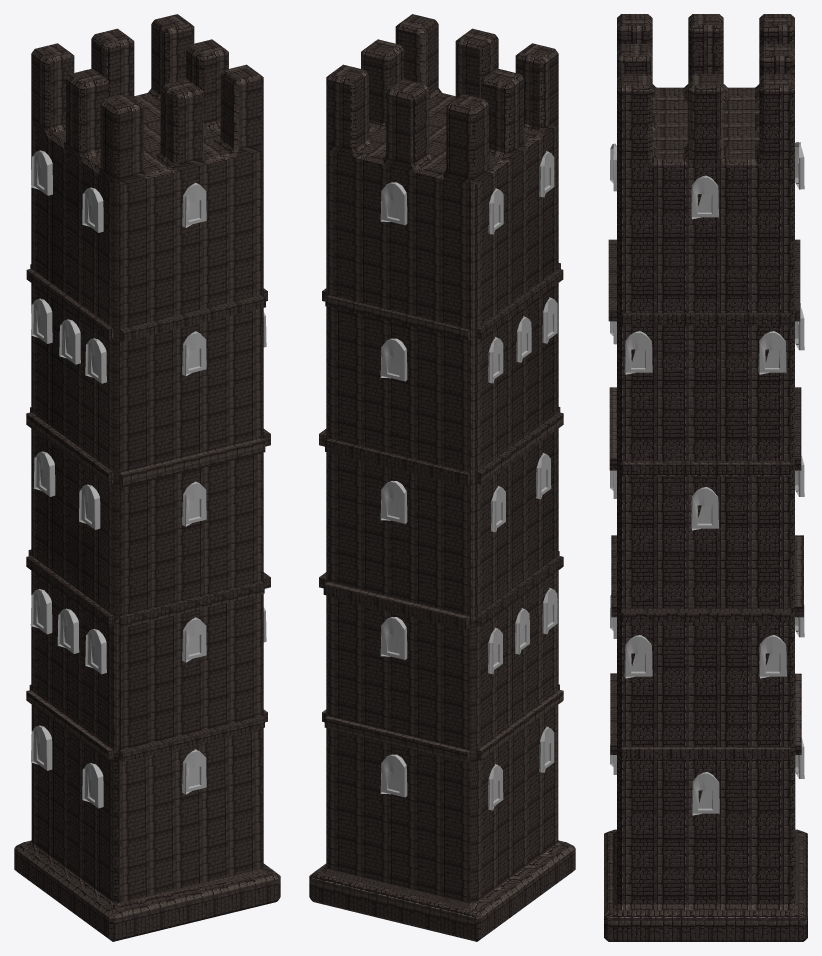
The model's file is UV Ready Tower.FBX.
3 renders of one model, left to right at view 1: azimuth 30°, elevation 25°; view 2: azimuth 150°, elevation 25°; view 3: azimuth 270°, elevation 25°, orthographic. The views are drawn at different scales.
Parts seen in each view (by area): view 1: Box001; view 2: Box001; view 3: Box001.
Part boxes in pixels (box(x1,y1,x2,y2)): Box001: box(14, 14, 280, 941); Box001: box(309, 14, 575, 941); Box001: box(604, 14, 807, 941).
Bounding box in the file's own units: 440 × 2024 × 440.
